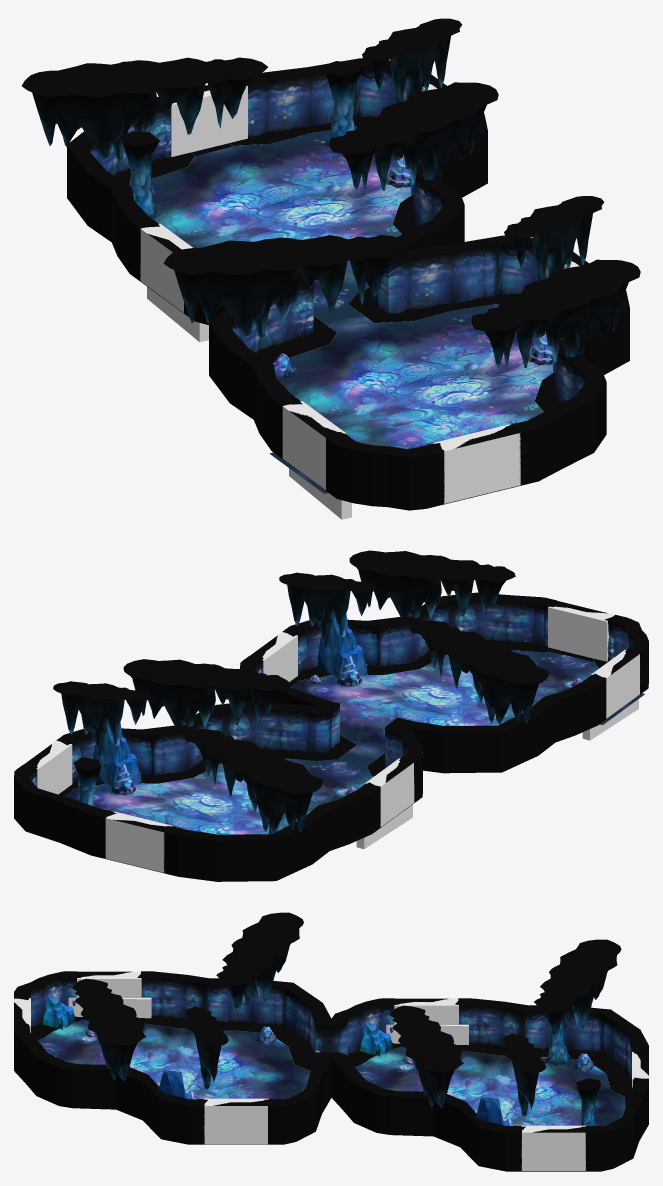
Rendered from Dungeon_052_QuestBossRoom.fbx.
The picture shows the model from 3 angles, top to bottom: view 1: azimuth 30°, elevation 25°; view 2: azimuth 150°, elevation 25°; view 3: azimuth 270°, elevation 25°; orthographic projection. The views are drawn at different scales.
Parts seen in each view (by area): view 1: Dun_011_Room_003_wall (×2), Dun_011_Room_003_ground (×2), Dungeon_011_Iwa004_3 (×2), Dungeon_011_Iwa004_2 (×2), DoorWay_NavMask (1) (×4), Dungeon_011_Iwa004_1 (×2), Dun_011_Room_003_shadow (×2), Dungeon_011_Object_010 (×2), DoorWay_NavMask (2) (×2), Dun_011_Door_002_old (×2); view 2: Dun_011_Room_003_wall (×2), Dun_011_Room_003_ground (×2), Dungeon_011_Iwa004_2 (×2), Dungeon_011_Iwa004_3 (×2), DoorWay_NavMask (1) (×6), Dungeon_011_Iwa004_1 (×2), Dun_011_Room_003_shadow (×2), Dungeon_011_Iwa001 (×2), Dun_011_Door_002 (×3), DoorWay_NavMask (2) (×2), Dungeon_011_Object_010; view 3: Dun_011_Room_003_wall (×2), Dun_011_Room_003_ground (×2), Dungeon_011_Iwa004_3 (×2), Dungeon_011_Iwa004_2 (×2), DoorWay_NavMask (1) (×4), Dun_011_Room_003_shadow (×2), Dungeon_011_Iwa004_1 (×2), Dungeon_011_Iwa002 (×2), Dungeon_011_Object_010 (×2), Dungeon_011_Iwa001 (×2), DoorWay_NavMask (2) (×2), Dun_011_Door_002 (×2) (+1 smaller).
Boxes of the visible parts, x1,y1,x2,y2 form: Dun_011_Room_003_wall (×2): (67, 58, 629, 510); Dun_011_Room_003_ground (×2): (150, 126, 553, 493); Dungeon_011_Iwa004_3 (×2): (22, 57, 409, 340); Dungeon_011_Iwa004_2 (×2): (329, 82, 640, 372); DoorWay_NavMask (1) (×4): (140, 86, 520, 503); Dungeon_011_Iwa004_1 (×2): (362, 18, 603, 280); Dun_011_Room_003_shadow (×2): (115, 116, 557, 411); Dungeon_011_Object_010 (×2): (119, 61, 362, 218); DoorWay_NavMask (2) (×2): (147, 287, 351, 519); Dun_011_Door_002_old (×2): (273, 394, 535, 454); Dun_011_Room_003_wall (×2): (14, 592, 648, 881); Dun_011_Room_003_ground (×2): (64, 650, 644, 834); Dungeon_011_Iwa004_2 (×2): (123, 550, 515, 727); Dungeon_011_Iwa004_3 (×2): (183, 620, 548, 833); DoorWay_NavMask (1) (×6): (36, 606, 639, 872); Dungeon_011_Iwa004_1 (×2): (53, 572, 376, 756); Dun_011_Room_003_shadow (×2): (64, 640, 607, 790); Dungeon_011_Iwa001 (×2): (93, 614, 367, 787); Dun_011_Door_002 (×3): (242, 598, 619, 827); DoorWay_NavMask (2) (×2): (356, 699, 638, 848); Dungeon_011_Object_010: (74, 757, 101, 806); Dun_011_Room_003_wall (×2): (14, 971, 648, 1171); Dun_011_Room_003_ground (×2): (37, 1019, 625, 1125); Dungeon_011_Iwa004_3 (×2): (216, 912, 621, 1039); Dungeon_011_Iwa004_2 (×2): (72, 978, 463, 1108); DoorWay_NavMask (1) (×4): (77, 971, 585, 1170); Dun_011_Room_003_shadow (×2): (31, 1015, 631, 1118); Dungeon_011_Iwa004_1 (×2): (184, 1007, 546, 1116); Dungeon_011_Iwa002 (×2): (42, 995, 392, 1056); Dungeon_011_Object_010 (×2): (545, 1022, 601, 1125); Dungeon_011_Iwa001 (×2): (158, 1070, 509, 1125); DoorWay_NavMask (2) (×2): (68, 997, 468, 1044); Dun_011_Door_002 (×2): (190, 998, 472, 1144).
Size of what is drawn, in the model's own units: 19.01 by 6 by 30.
